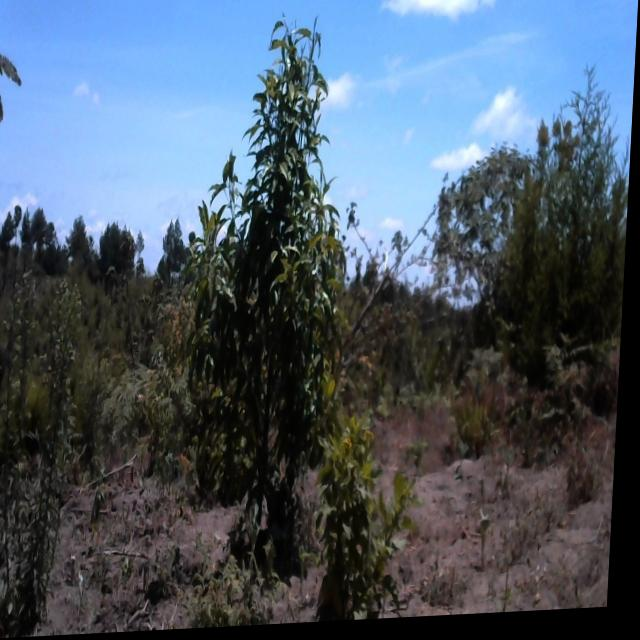Hass Avocado: (180, 17, 370, 523)
cedrus: (507, 61, 635, 352), (101, 222, 123, 281), (69, 207, 91, 263), (34, 203, 53, 256), (20, 203, 36, 255), (1, 210, 18, 253)
other: (0, 274, 91, 627), (308, 418, 428, 626), (440, 152, 524, 311)
